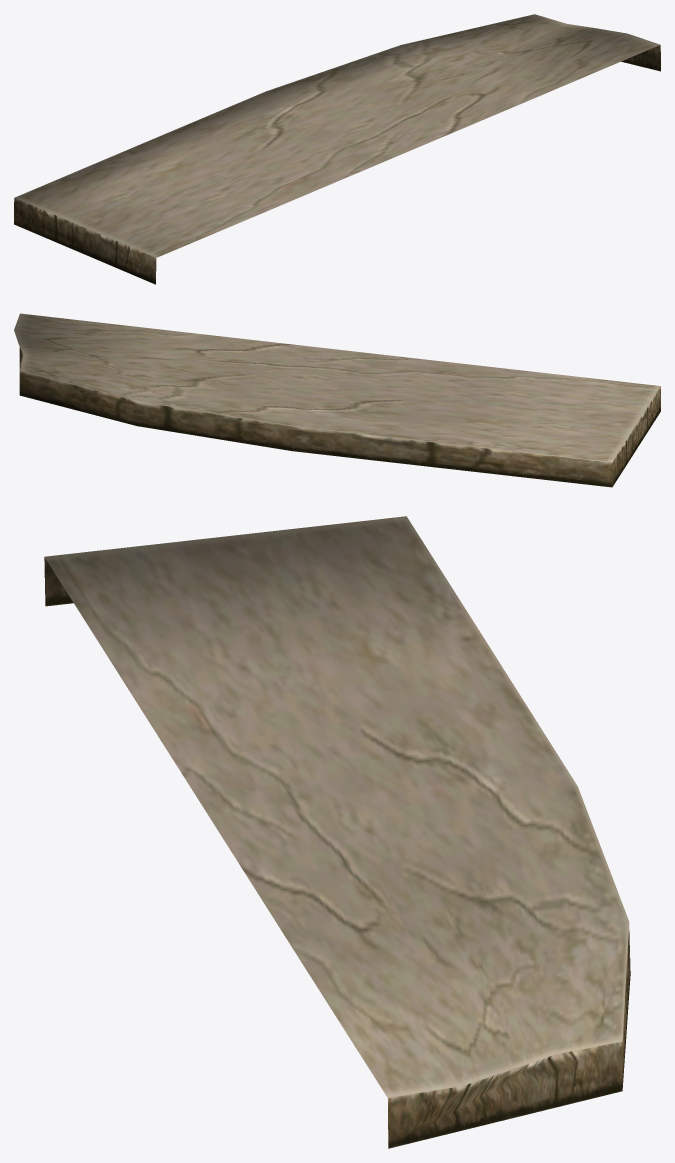
The model's file is HTOWN01_BAGROW1PORCH.fbx.
3 renders of one model, top to bottom at view 1: azimuth 30°, elevation 25°; view 2: azimuth 150°, elevation 25°; view 3: azimuth 270°, elevation 25°, orthographic. The views are drawn at different scales.
Parts seen in each view (by area): view 1: HTOWN01_BAGROW1PORCH; view 2: HTOWN01_BAGROW1PORCH; view 3: HTOWN01_BAGROW1PORCH.
Part boxes in pixels (<box>): HTOWN01_BAGROW1PORCH: <box>14,14,660,284</box>; HTOWN01_BAGROW1PORCH: <box>14,313,660,487</box>; HTOWN01_BAGROW1PORCH: <box>44,516,630,1148</box>.
Size of the model in its own units: 78594 by 3156 by 33396.
Materials: 2 (2 with a texture image).
